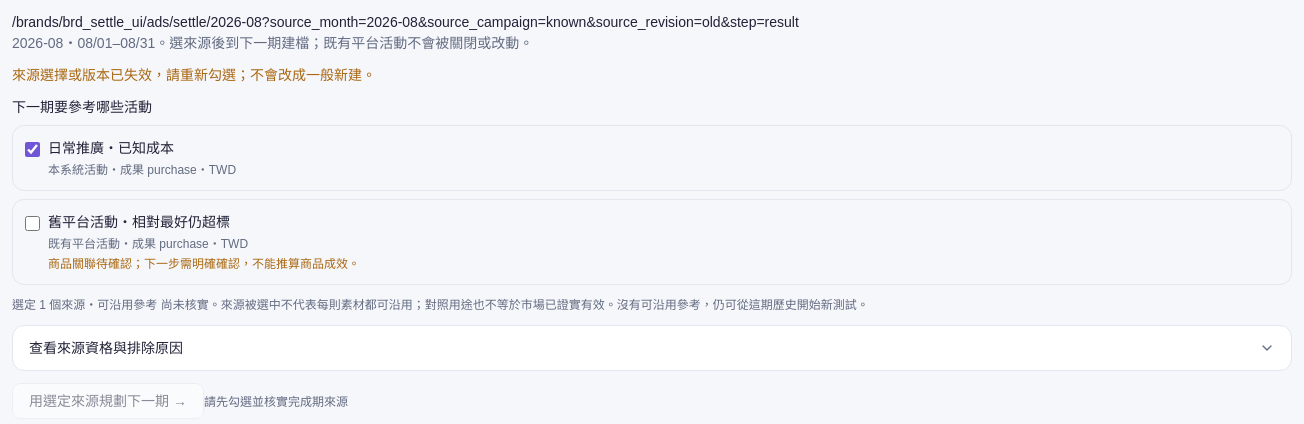
Scenario: completed-period source navigation › retains invalid/stale selections but does not certify fresh references or create a generic link
The width and height of the screenshot is (1304, 424).
Check: the message "來源選擇或版本已失效，請重新勾選；不會改成一般新建。" is shown, box [12,67,376,83]
Check: the text "可沿用參考 尚未核實" is shown, box [12,298,869,312]
Click the checkbox labelled "日常推廣・已知成本 本系統活動・成果 purchase・TWD" at (32, 150), box [25,142,40,157]
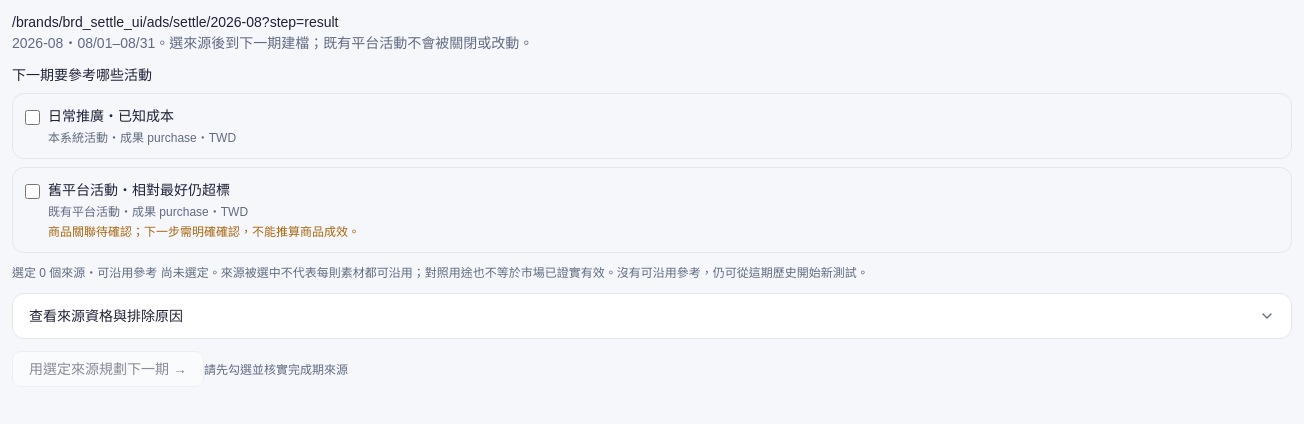
Click the checkbox labelled "日常推廣・已知成本 本系統活動・成果 purchase・TWD" at (32, 118), box [25,110,40,125]
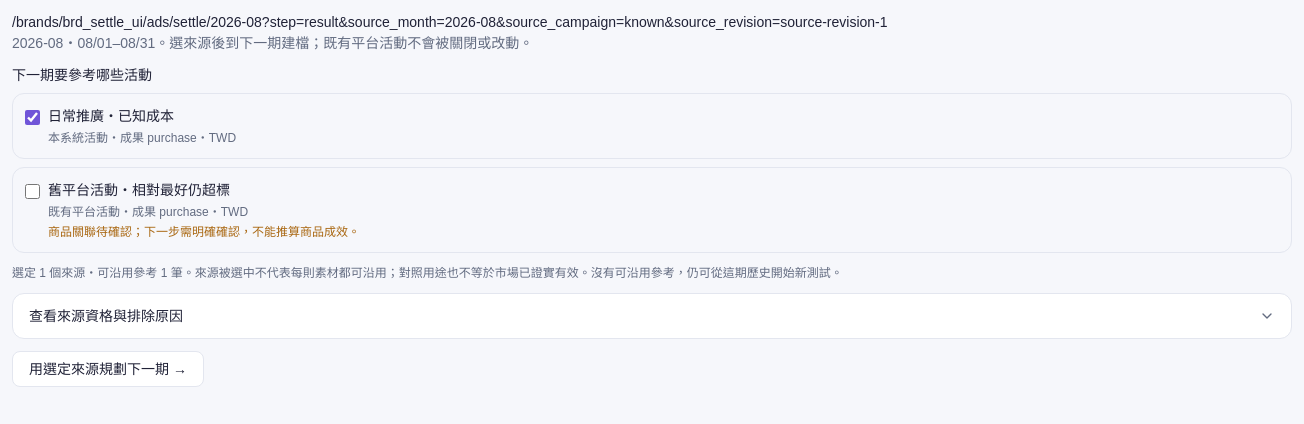
Check: the text "可沿用參考 1 筆" is shown, box [12,266,843,280]
